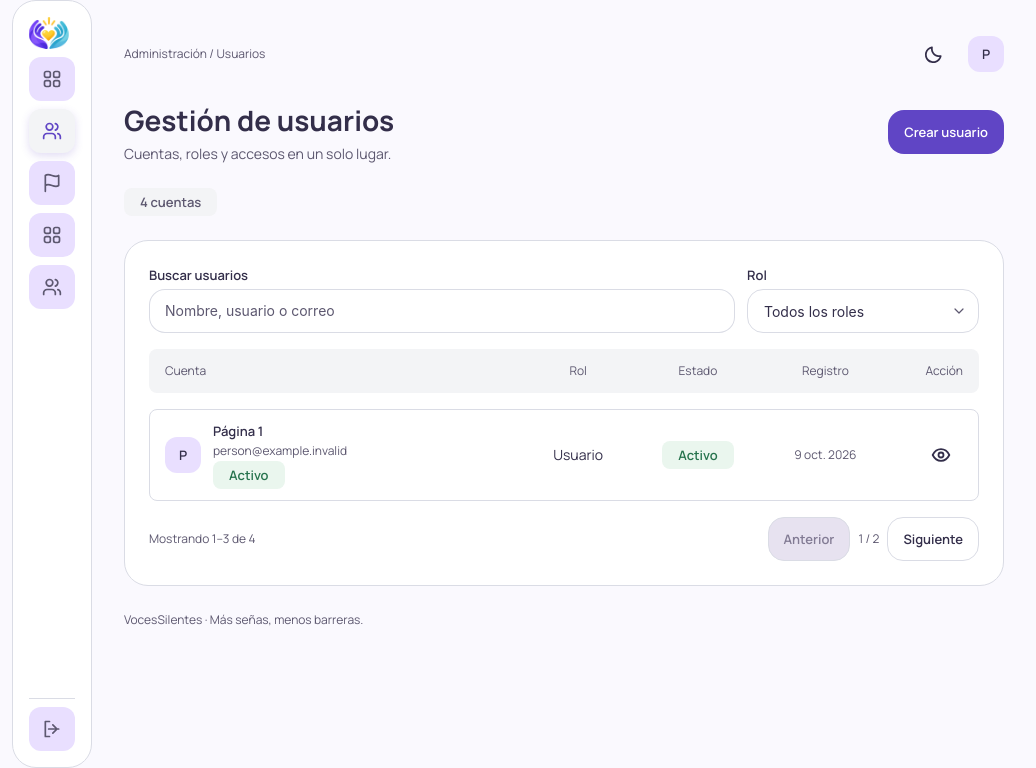
it: listado real: envía páginas, búsqueda y rol a la API y reinicia página al filtrar
The image size is (1036, 768).
Expected: the text "Página 1" is shown, [213, 422, 263, 440]
Click the button "Siguiente": (933,539) [887, 517, 979, 561]
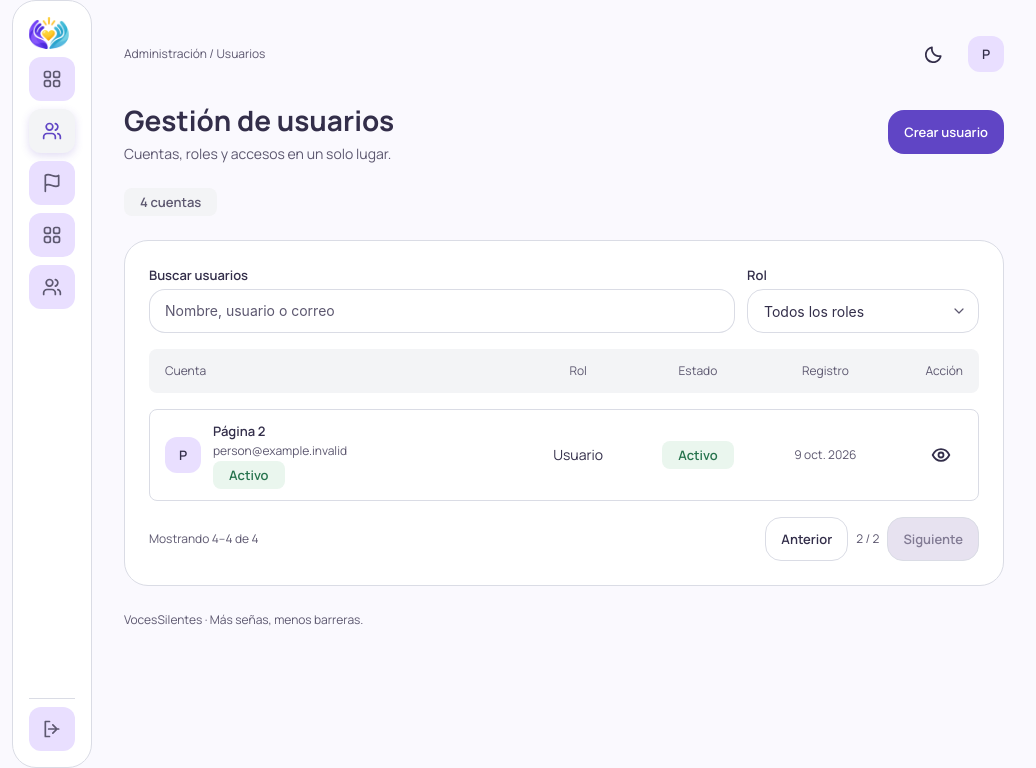
Expected: the text "Página 2" is shown, [213, 422, 265, 440]
Select "Admin" in the dropdown labelled "Rol": (863,311) [747, 289, 979, 333]
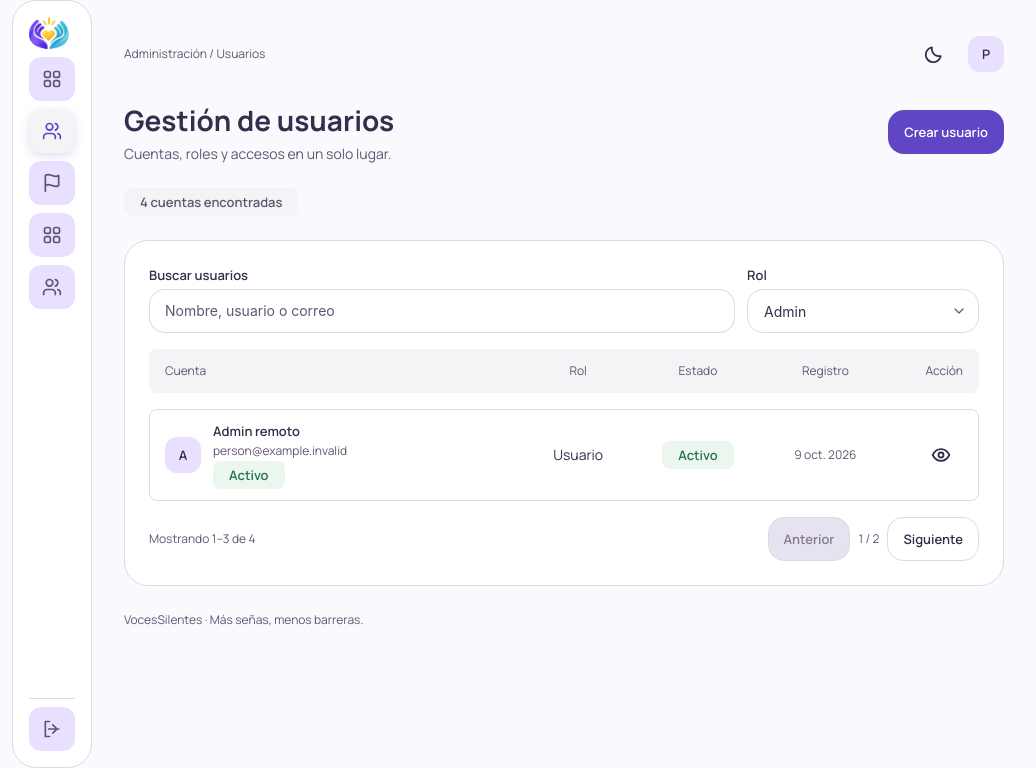
Expected: the text "Admin remoto" is shown, [213, 422, 300, 440]
In the field labelled "Buscar usuarios": (442,311) [165, 301, 719, 321], type "remoto"
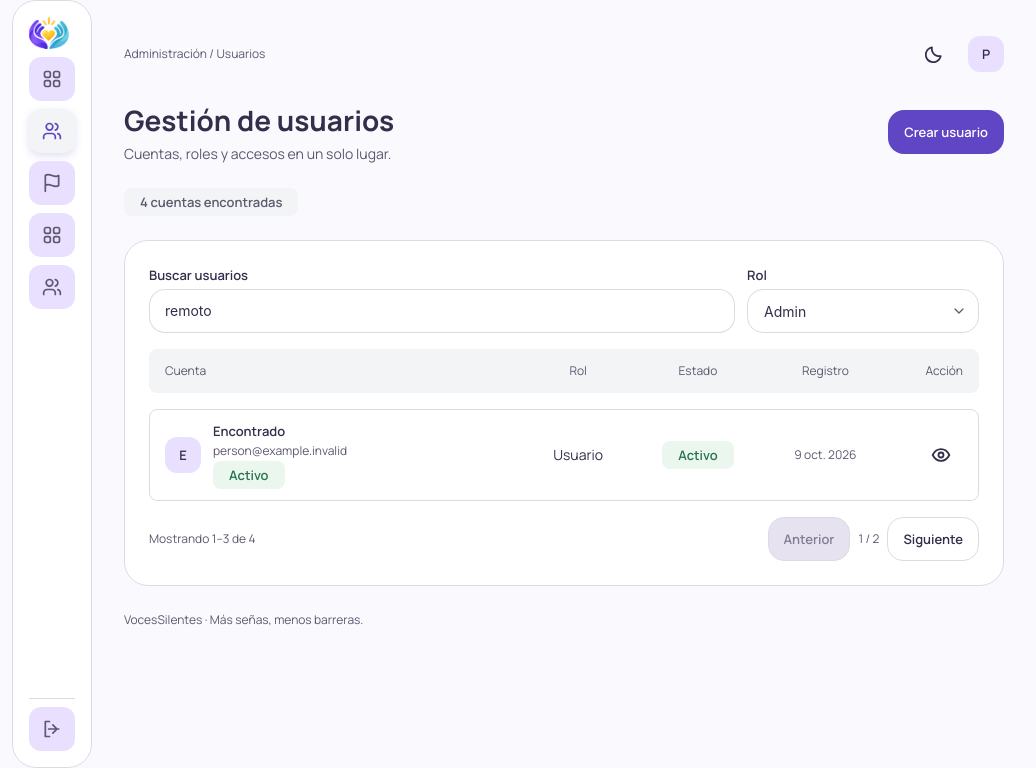
Expected: the text "Encontrado" is shown, [213, 422, 285, 440]
